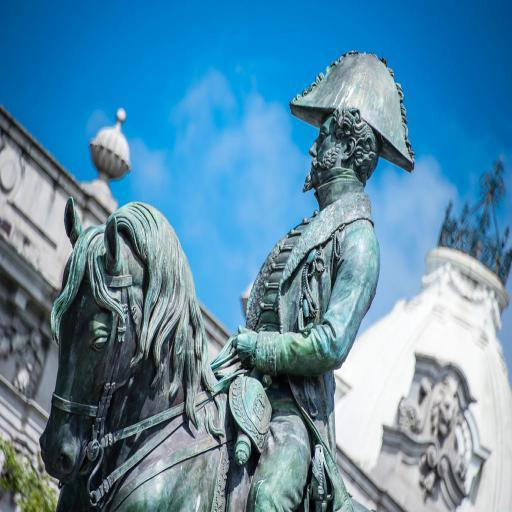Horse: (38, 192, 378, 512)
